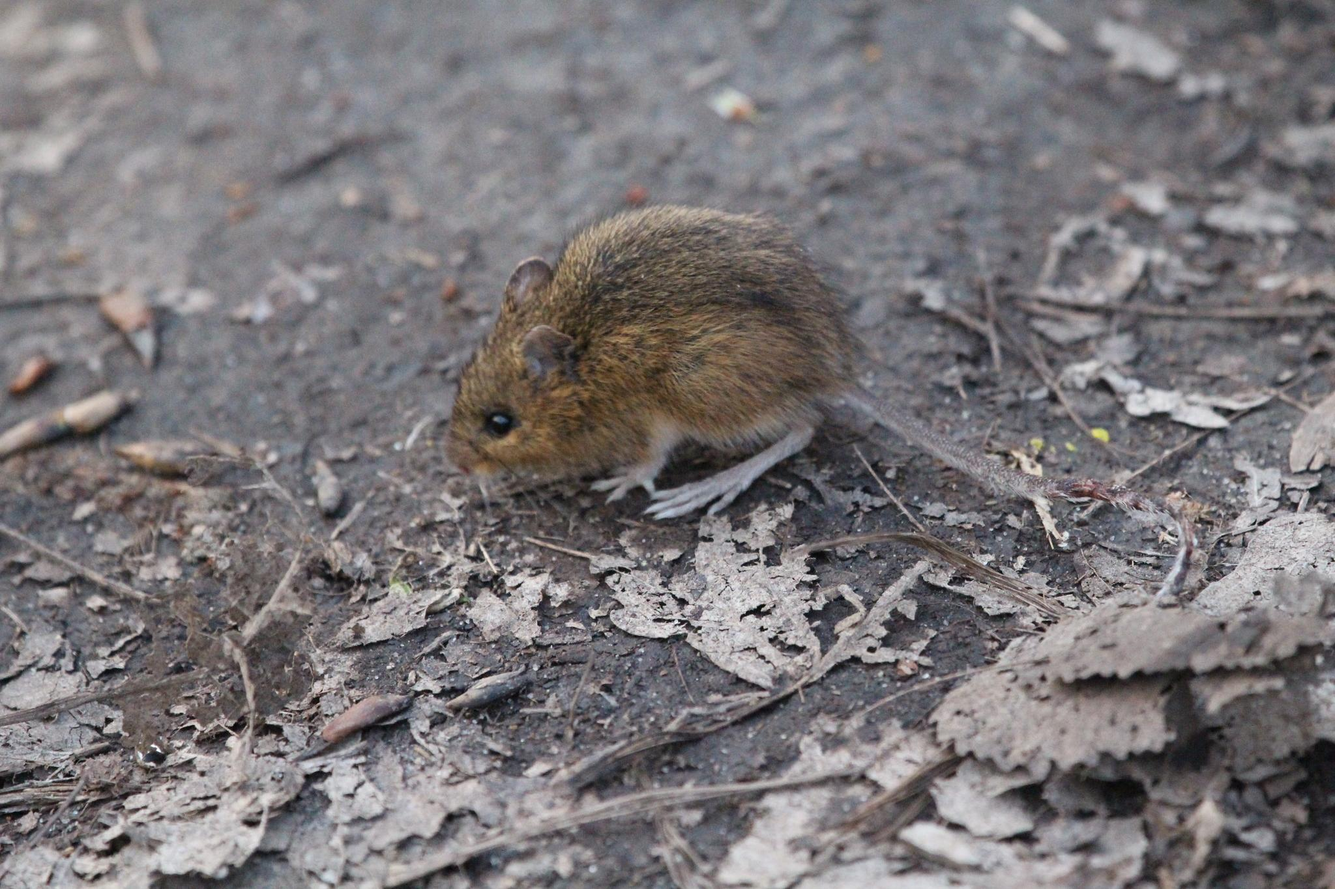rat: (448, 206, 856, 523)
